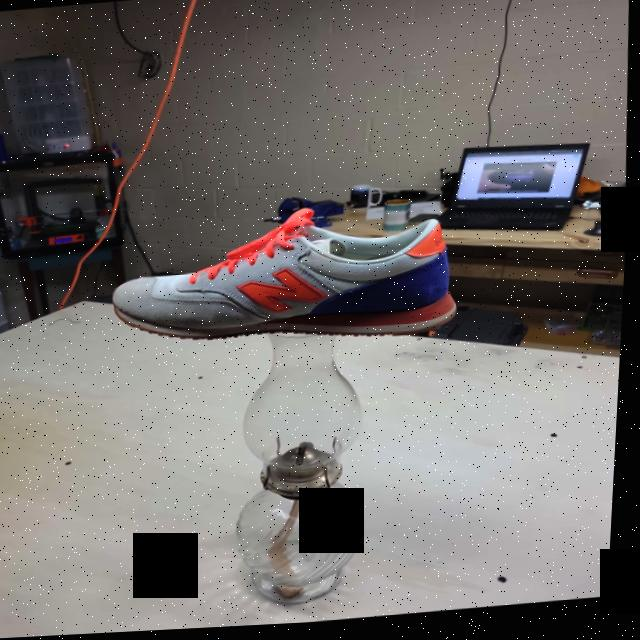shoe: (108, 206, 466, 363)
